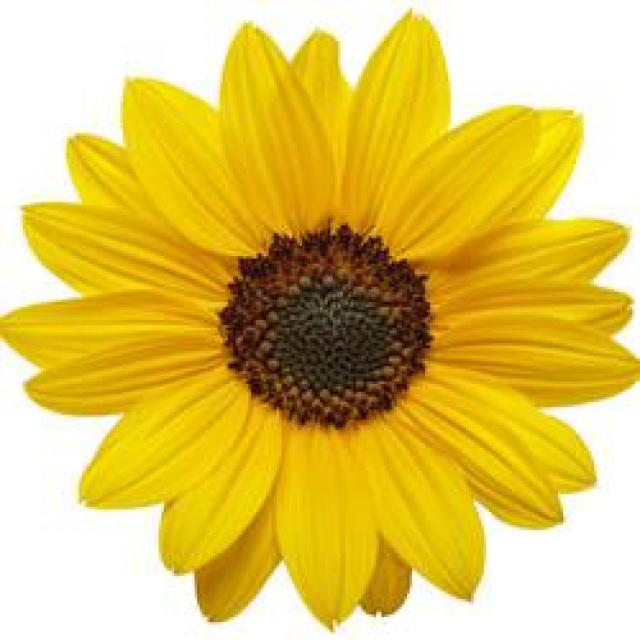sunflower: (18, 10, 640, 640)
